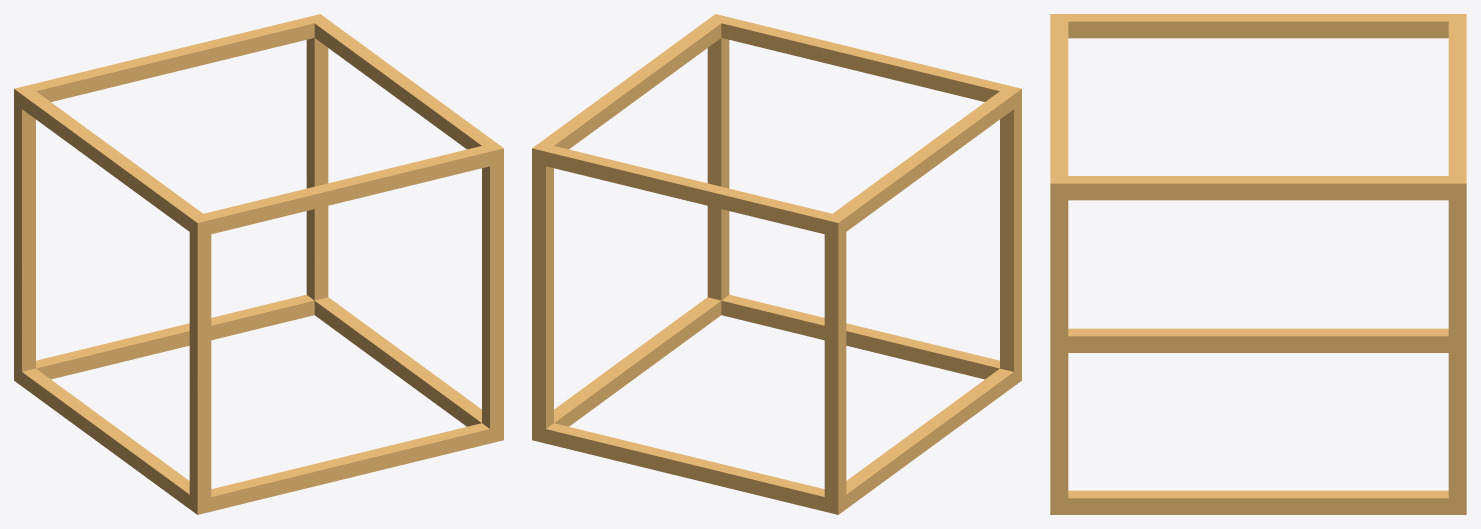
Rendered from scarves.glb.
3 renders of one model, left to right at view 1: azimuth 30°, elevation 25°; view 2: azimuth 150°, elevation 25°; view 3: azimuth 270°, elevation 25°, orthographic. The views are drawn at different scales.
Parts seen in each view (by area): view 1: box_0; view 2: box_0; view 3: box_0.
Boxes of the visible parts, x1=… form: box_0: x1=14, y1=14, x2=503, y2=514; box_0: x1=532, y1=14, x2=1021, y2=514; box_0: x1=1050, y1=14, x2=1466, y2=514.
Size of the model in its own units: 0.2199 by 0.2002 by 0.2281.
